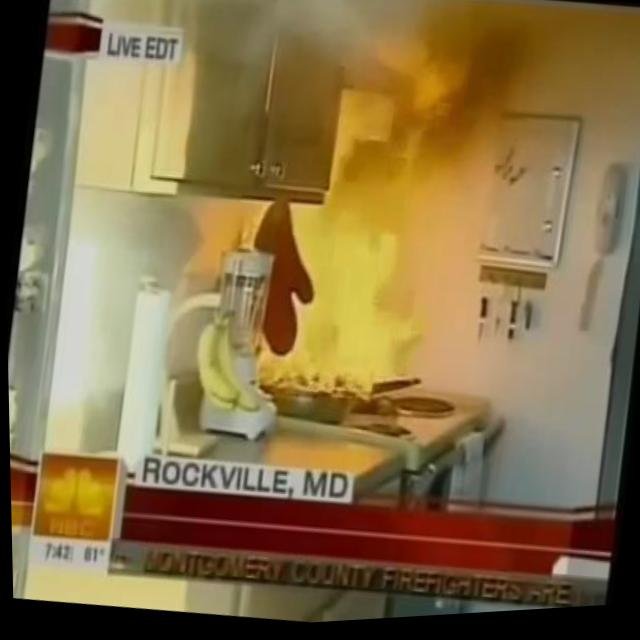fire: (240, 27, 464, 406)
